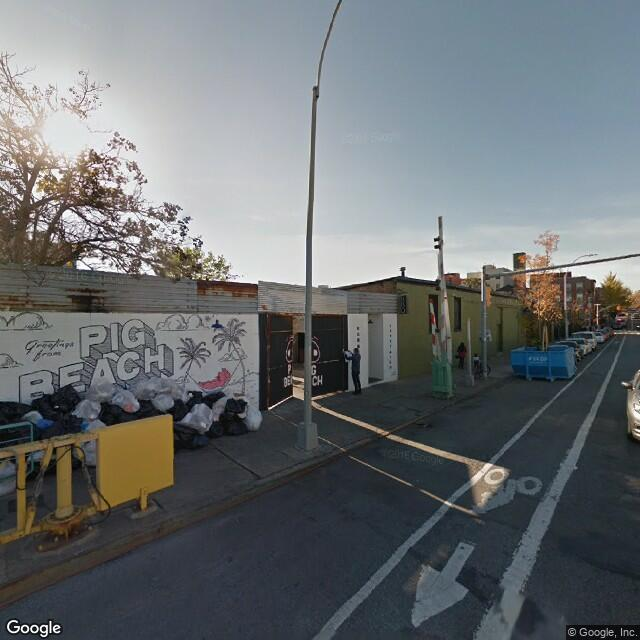litter: (3, 398, 288, 465)
